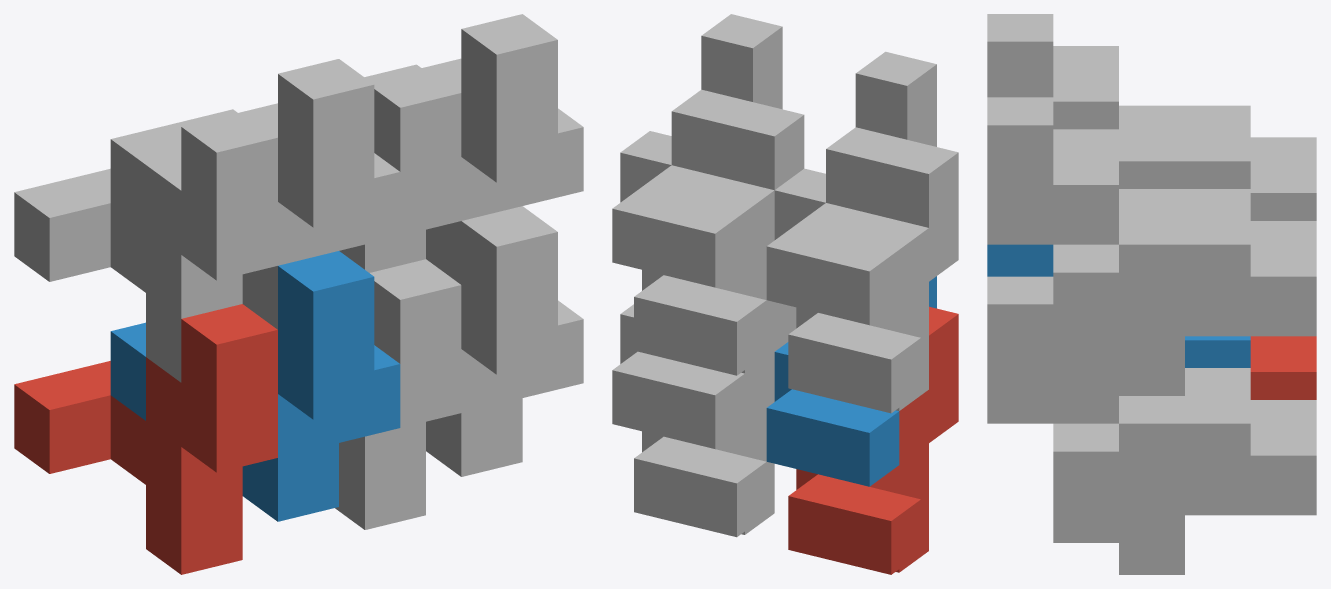
File: tiling.obj
3 renders of one model, left to right at view 1: azimuth 30°, elevation 25°; view 2: azimuth 150°, elevation 25°; view 3: azimuth 270°, elevation 25°, orthographic. The views are drawn at different scales.
Parts seen in each view (by area): view 1: copy_1_domain_1, copy_1_domain_3, copy_1_domain_2, copy_1_domain_4, copy_1_domain_6, copy_1_domain_8, copy_1_domain_5, copy_1_domain_7; view 2: copy_1_domain_4, copy_1_domain_8, copy_1_domain_3, copy_1_domain_7, copy_1_domain_1, copy_1_domain_5, copy_1_domain_2, copy_1_domain_6; view 3: copy_1_domain_8, copy_1_domain_6, copy_1_domain_7, copy_1_domain_4, copy_1_domain_5, copy_1_domain_3, copy_1_domain_2, copy_1_domain_1.
Boxes of the visible parts, x1,y1,x2,y2 form: copy_1_domain_1: [14, 304, 277, 574]; copy_1_domain_3: [14, 112, 277, 382]; copy_1_domain_2: [110, 251, 400, 521]; copy_1_domain_4: [110, 59, 400, 329]; copy_1_domain_6: [426, 206, 583, 476]; copy_1_domain_8: [364, 14, 583, 284]; copy_1_domain_5: [335, 259, 461, 529]; copy_1_domain_7: [339, 67, 461, 272]; copy_1_domain_4: [766, 51, 936, 325]; copy_1_domain_8: [612, 14, 782, 287]; copy_1_domain_3: [788, 140, 958, 413]; copy_1_domain_7: [634, 102, 804, 375]; copy_1_domain_1: [788, 306, 958, 574]; copy_1_domain_5: [634, 302, 796, 537]; copy_1_domain_2: [766, 276, 936, 486]; copy_1_domain_6: [612, 304, 744, 448]; copy_1_domain_8: [987, 97, 1250, 363]; copy_1_domain_6: [987, 276, 1250, 542]; copy_1_domain_7: [1053, 129, 1316, 395]; copy_1_domain_4: [987, 14, 1250, 188]; copy_1_domain_5: [1119, 400, 1316, 574]; copy_1_domain_3: [1053, 46, 1316, 220]; copy_1_domain_2: [987, 244, 1250, 367]; copy_1_domain_1: [1250, 336, 1316, 399].
Bounding box in the file's own units: 7 × 8 × 5.
